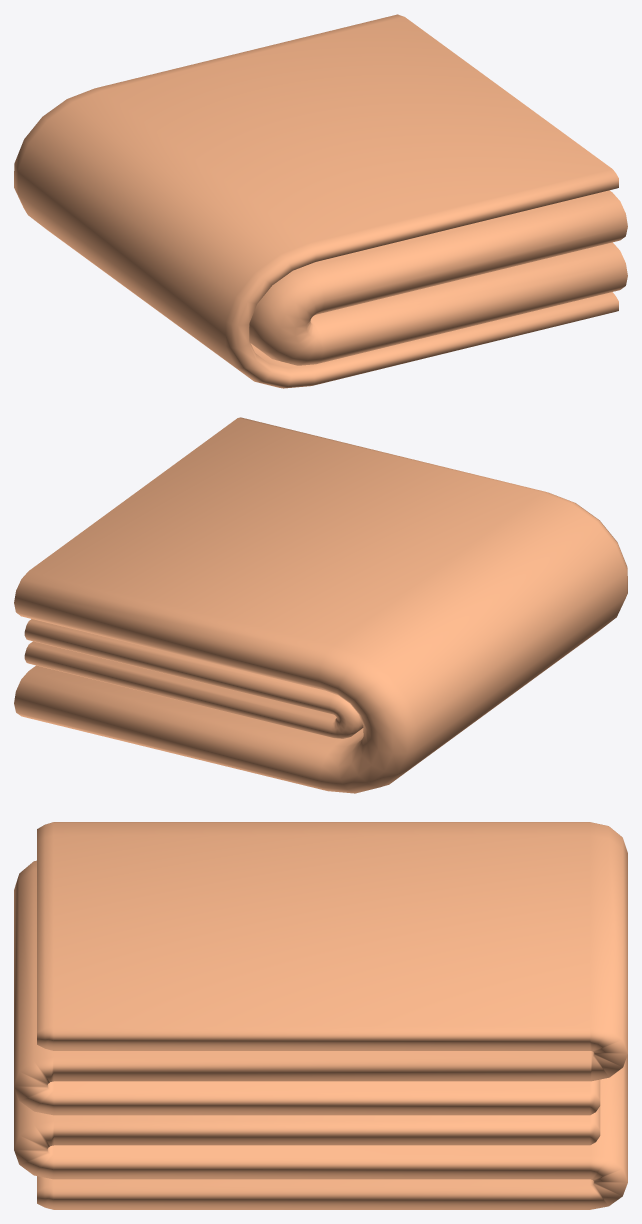
Rendered from SM_JuteCloth_001.fbx.
The picture shows the model from 3 angles, top to bottom: view 1: azimuth 30°, elevation 25°; view 2: azimuth 150°, elevation 25°; view 3: azimuth 270°, elevation 25°; orthographic projection. The views are drawn at different scales.
Visible parts, largest first — view 1: JuteCloth; view 2: JuteCloth; view 3: JuteCloth.
Boxes of the visible parts, box(x1,y1,x2,y2) form: JuteCloth: box(14, 14, 627, 388); JuteCloth: box(14, 417, 627, 793); JuteCloth: box(14, 822, 627, 1209).
Bounding box in the file's own units: 47 × 16.49 × 50.
